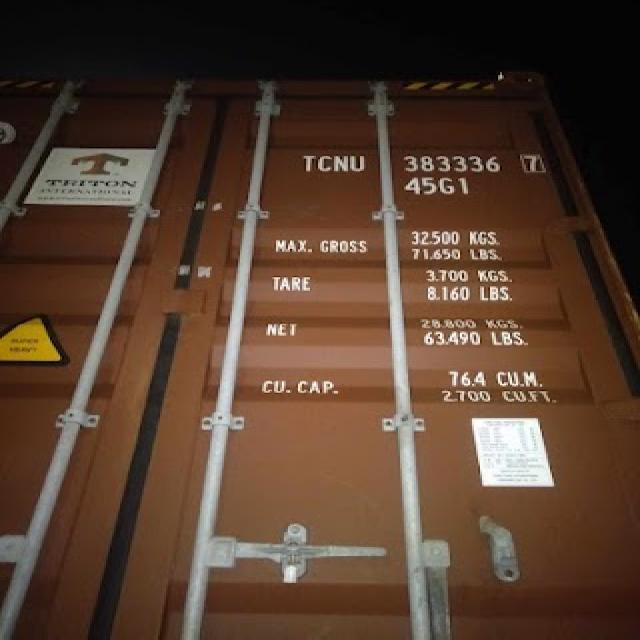ISO: (401, 175, 473, 198)
container_number: (304, 147, 549, 175)
